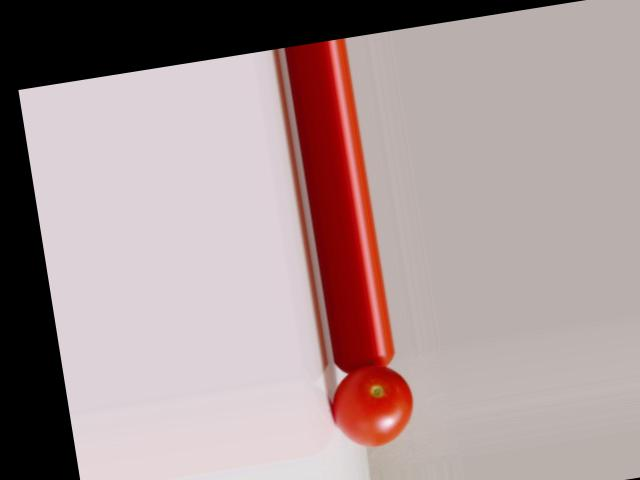tomato: (327, 360, 418, 451)
